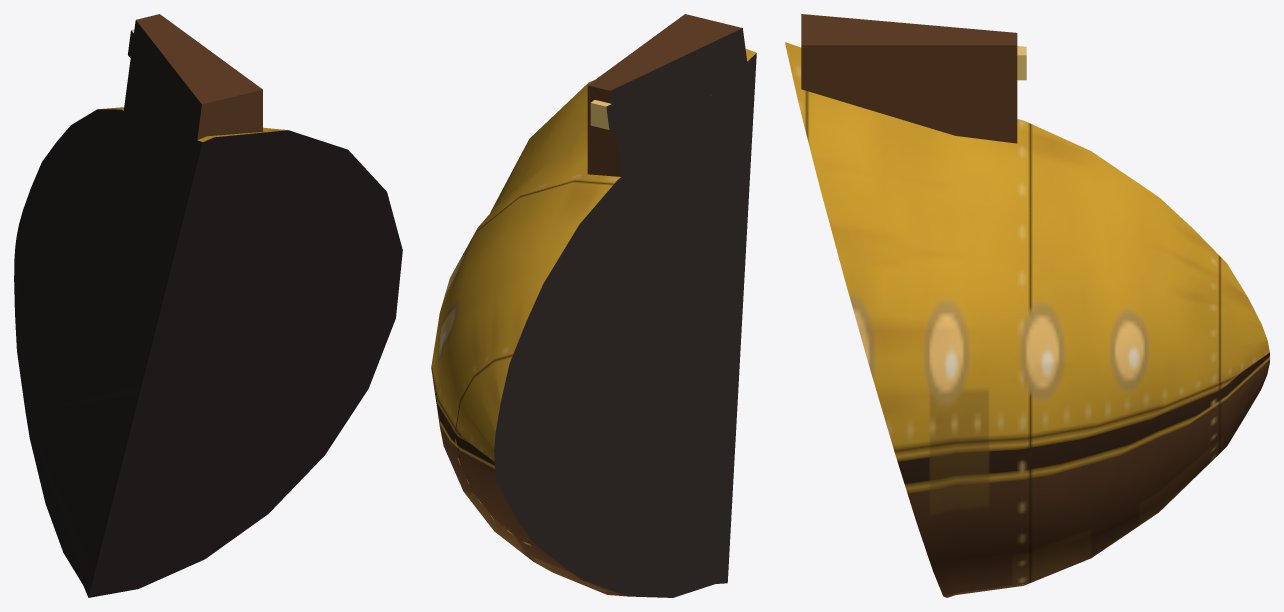
Rendered from cartel_freighter_debris1.obj.
The picture shows the model from 3 angles, left to right: view 1: azimuth 30°, elevation 25°; view 2: azimuth 150°, elevation 25°; view 3: azimuth 270°, elevation 25°; orthographic projection. The views are drawn at different scales.
Visible parts, largest first — view 1: hull, bridge; view 2: hull, bridge, bridge_glass; view 3: hull, bridge.
Part boxes in pixels (x1,y1,x2,y2): hull: [14, 107, 402, 597]; bridge: [122, 14, 262, 201]; hull: [431, 49, 756, 597]; bridge: [587, 14, 753, 184]; bridge_glass: [590, 100, 616, 129]; hull: [785, 42, 1269, 597]; bridge: [801, 14, 1017, 143].
Bounding box in the file's own units: 11.25 × 20.03 × 15.73.
4 materials, 1 textured.
